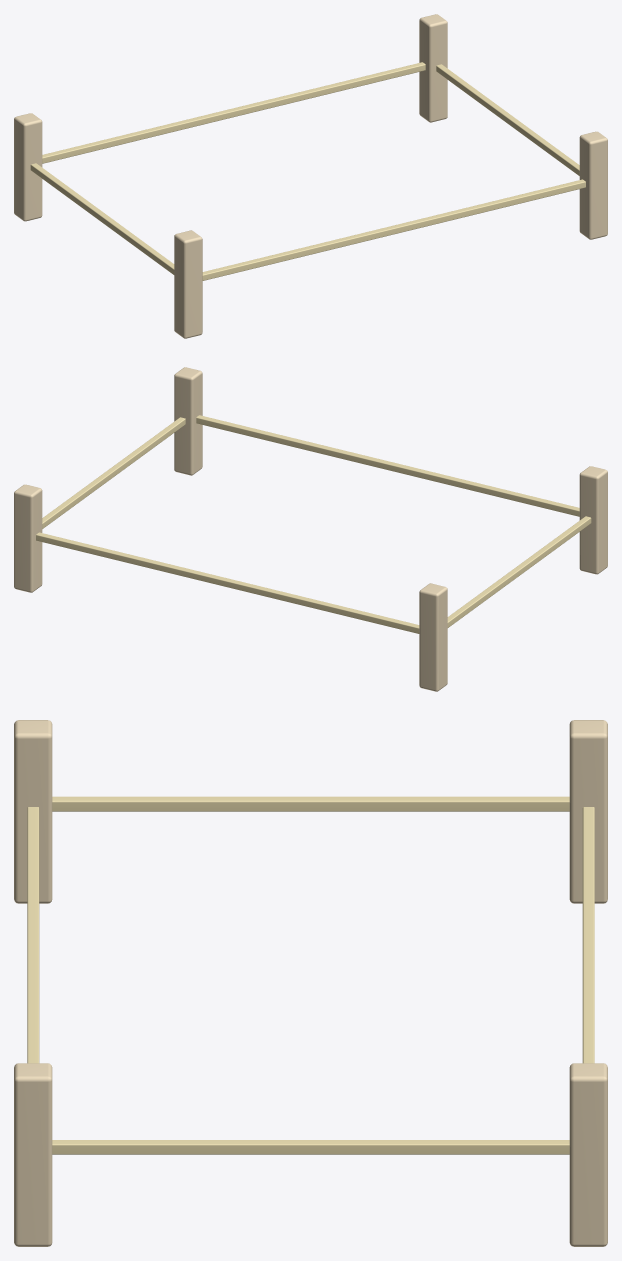
File: water-point-planned.glb
3 views of the same model, one above another, from view 1: azimuth 30°, elevation 25°; view 2: azimuth 150°, elevation 25°; view 3: azimuth 270°, elevation 25° (orthographic). The views are drawn at different scales.
Visible parts, largest first — view 1: Setting-out cord.012, Setting-out cord.013, Survey peg.012, Survey peg.014, Survey peg.013, Survey peg.015, Setting-out cord.014, Setting-out cord.015; view 2: Setting-out cord.013, Setting-out cord.012, Survey peg.013, Survey peg.015, Survey peg.012, Survey peg.014, Setting-out cord.014, Setting-out cord.015; view 3: Setting-out cord.014, Setting-out cord.015, Survey peg.014, Survey peg.015, Survey peg.012, Survey peg.013, Setting-out cord.012, Setting-out cord.013.
Boxes of the visible parts, x1,y1,x2,y2 form: Setting-out cord.012: (202,179,585,280); Setting-out cord.013: (42,62,425,163); Survey peg.012: (174,230,202,338); Survey peg.014: (579,131,607,239); Survey peg.013: (14,113,42,221); Survey peg.015: (419,14,447,122); Setting-out cord.014: (30,163,174,274); Setting-out cord.015: (436,64,579,175); Setting-out cord.013: (36,532,419,633); Setting-out cord.012: (196,415,579,516); Survey peg.013: (419,583,447,691); Survey peg.015: (14,484,42,592); Survey peg.012: (579,466,607,574); Survey peg.014: (174,367,202,475); Setting-out cord.014: (447,516,591,627); Setting-out cord.015: (42,417,185,528); Setting-out cord.014: (52,796,569,811); Setting-out cord.015: (52,1140,569,1154); Survey peg.014: (14,1063,52,1246); Survey peg.015: (569,1063,607,1246); Survey peg.012: (14,720,52,903); Survey peg.013: (569,720,607,903); Setting-out cord.012: (27,807,39,1063); Setting-out cord.013: (582,807,594,1063).
Bounding box in the file's own units: 1.99 × 0.44 × 1.39.
